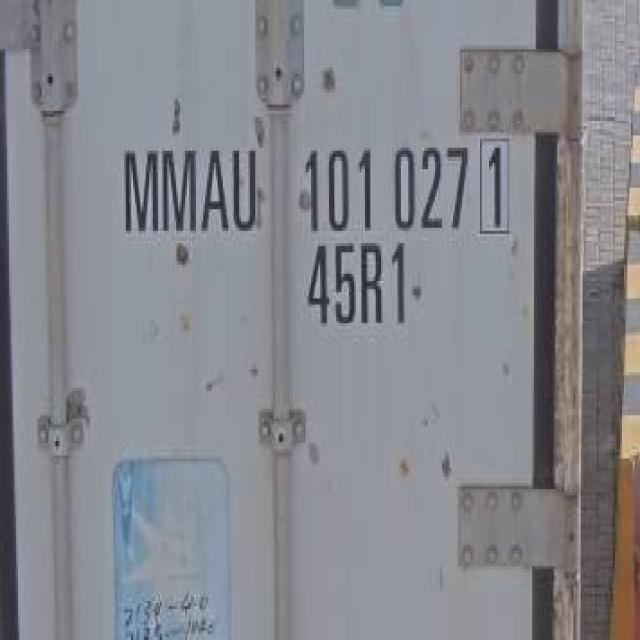dv: (474, 126, 518, 239)
owner: (116, 124, 260, 245)
serial: (297, 124, 469, 235)
size: (300, 238, 420, 336)
